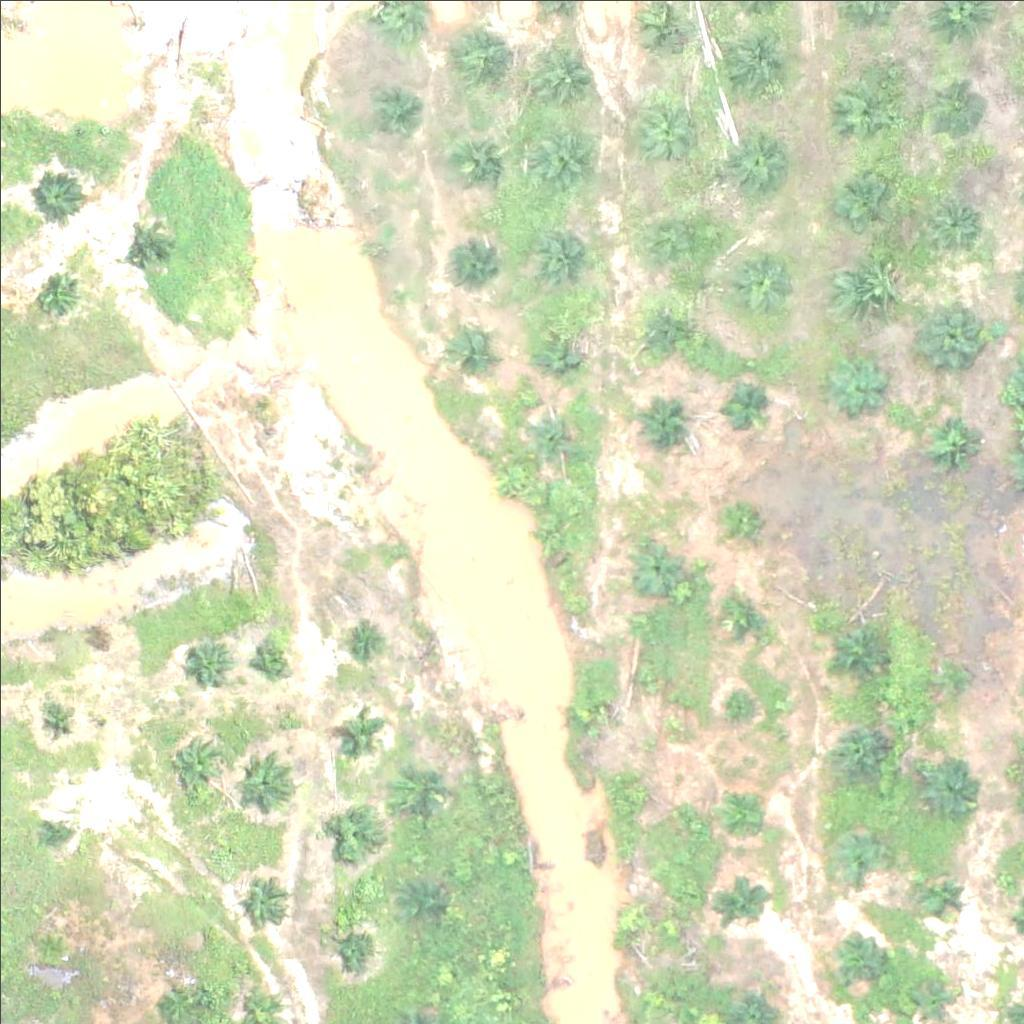Kelapa_Sawit: (646, 197, 709, 260), (531, 221, 594, 284), (921, 757, 984, 820), (923, 404, 986, 467), (919, 304, 982, 367), (824, 821, 887, 884), (533, 124, 596, 187), (836, 79, 899, 142), (922, 72, 985, 135), (446, 28, 509, 91), (532, 43, 595, 106), (166, 732, 229, 795), (836, 165, 898, 228), (725, 250, 787, 313), (826, 352, 888, 415), (723, 33, 785, 96), (726, 129, 788, 192), (637, 91, 699, 154), (447, 133, 509, 196), (830, 252, 892, 315), (233, 750, 295, 813), (830, 726, 880, 777), (831, 623, 881, 674), (720, 591, 770, 642), (829, 936, 879, 986), (932, 196, 982, 246), (443, 235, 493, 285), (636, 404, 686, 454), (718, 379, 768, 429), (529, 409, 579, 459), (630, 540, 680, 590), (533, 324, 583, 374), (447, 325, 497, 375), (34, 167, 84, 217), (365, 89, 415, 139), (31, 271, 81, 321), (122, 215, 172, 265), (639, 300, 689, 350), (328, 915, 378, 965), (330, 806, 380, 856), (241, 873, 291, 923), (181, 637, 231, 687), (716, 872, 766, 922), (718, 782, 768, 832), (392, 756, 442, 806), (533, 514, 571, 552), (721, 503, 759, 541), (343, 713, 381, 751), (342, 622, 380, 660), (255, 639, 293, 677), (629, 662, 667, 700), (619, 775, 657, 813), (613, 900, 651, 938), (37, 702, 74, 740), (566, 700, 603, 738), (32, 927, 70, 964), (403, 880, 440, 918), (913, 977, 950, 1015), (932, 660, 969, 698), (720, 682, 757, 719), (922, 874, 959, 911), (43, 818, 68, 843)
